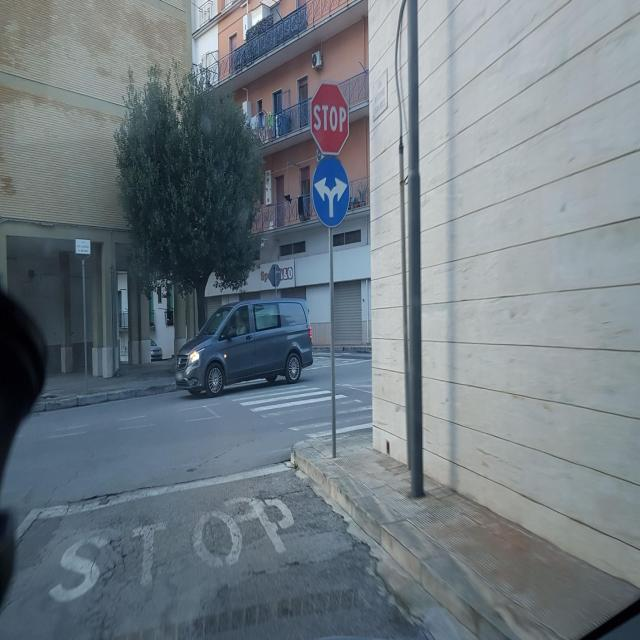car: (174, 295, 314, 397)
